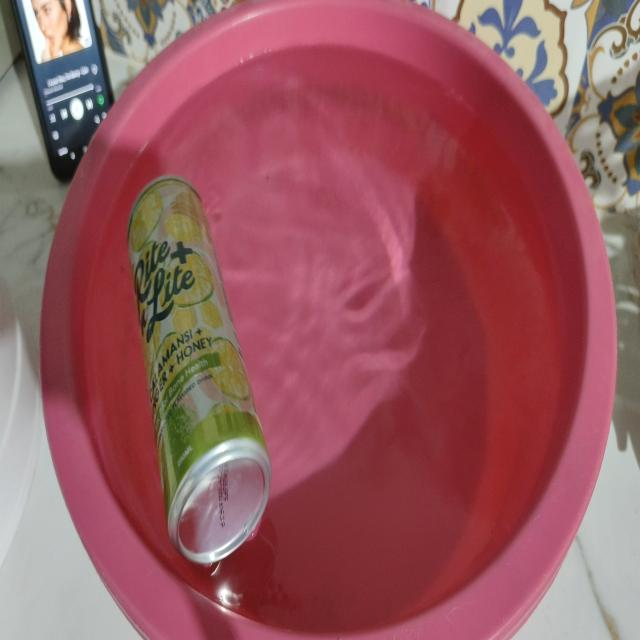Aluminum Can: (128, 176, 271, 564)
